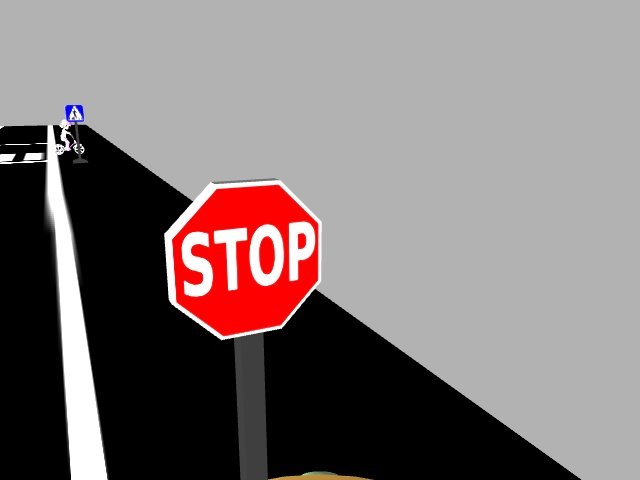Stop: (150, 177, 334, 345)
